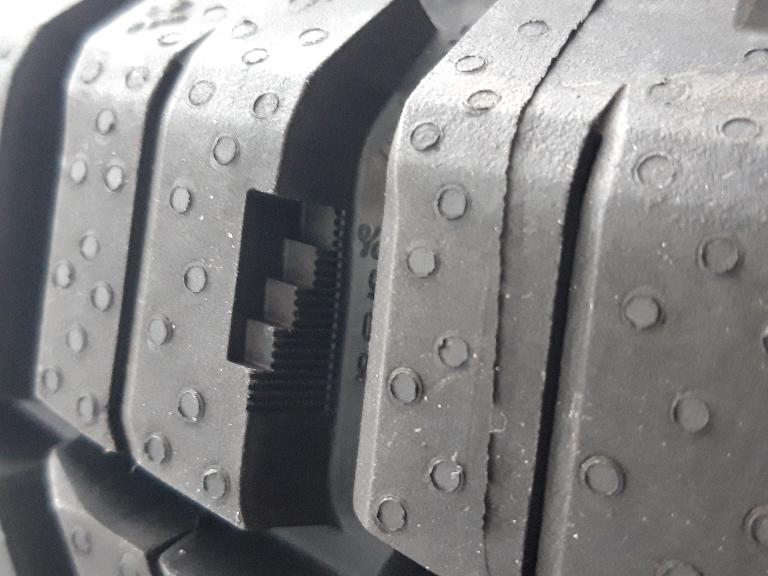temoin:100: (221, 180, 354, 424)
